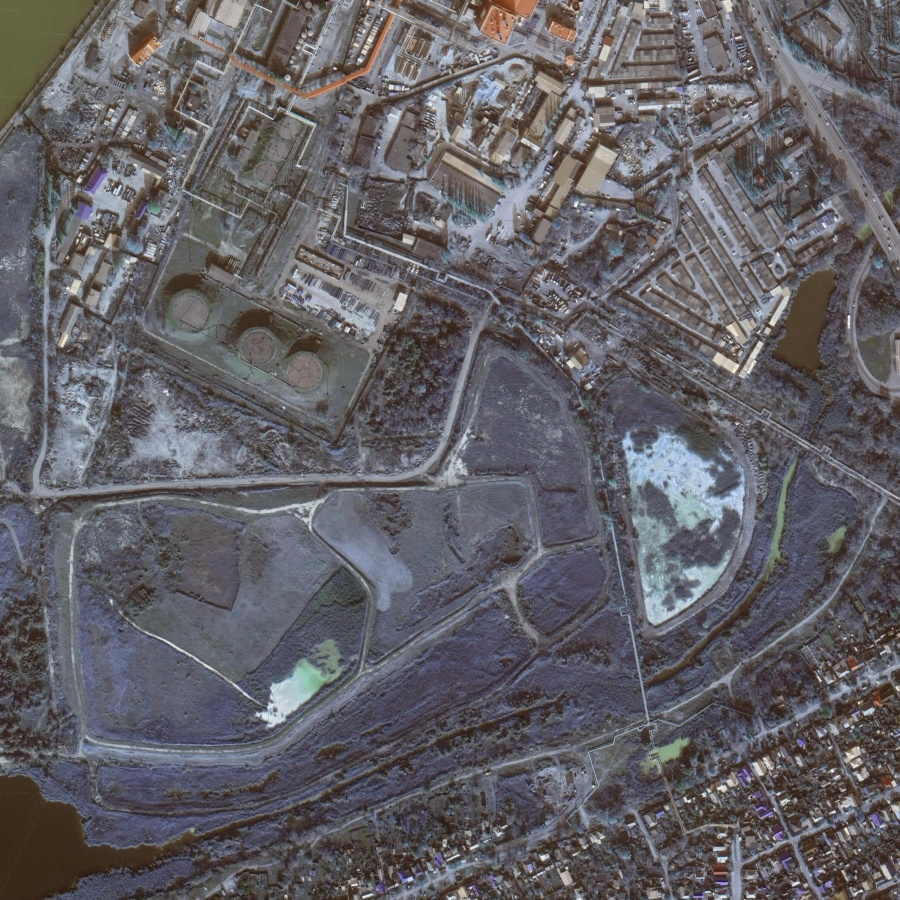PowerPlant: (153, 110, 339, 404)
